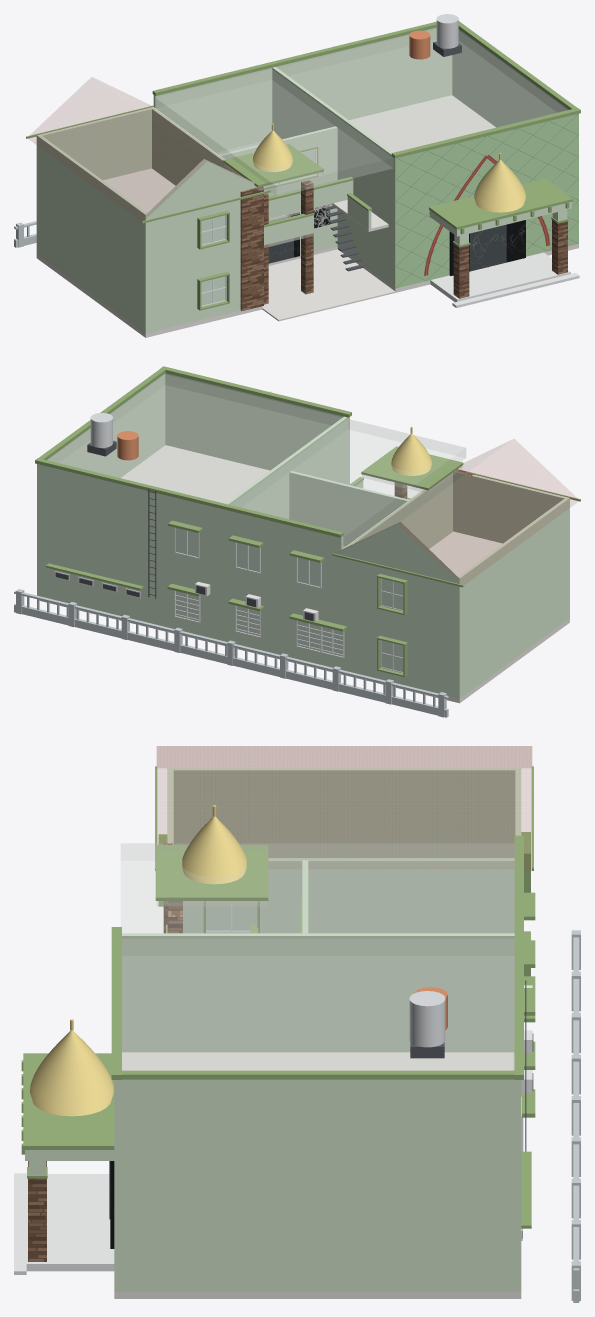
The model's file is gedung_perhotelan_2lantai_cutaway.glb.
3 views of the same model, one above another, from view 1: azimuth 30°, elevation 25°; view 2: azimuth 150°, elevation 25°; view 3: azimuth 270°, elevation 25° (orthographic). The views are drawn at different scales.
Parts seen in each view (by area): view 1: Dinding_Hijau_Pistachio, Atap_Dak_Beton_Utama, Fasad_Kubah_Diamond_Arch, Atap_Pelana_Sayap_Kiri, Lantai_Keramik_Krem, Aksen_Hijau_Olive_Dan_BoxJendela, Pilar_Batu_Alam_Coklat, Kusen_Putih_Tangga_Keramik_AC, Kubah_Emas_Utama_Dan_Menara, Marmer_Hitam_Lobi, Kaca_Jendela_Dan_Pintu, Besi_Tangga_Luar_Dan_Atap (+4 smaller); view 2: Dinding_Hijau_Pistachio, Atap_Dak_Beton_Utama, Atap_Pelana_Sayap_Kiri, Aksen_Hijau_Olive_Dan_BoxJendela, Pagar_Baluster_Belakang, Lantai_Keramik_Krem, Kaca_Jendela_Dan_Pintu, Kusen_Putih_Tangga_Keramik_AC, Besi_Tangga_Luar_Dan_Atap, Kubah_Emas_Utama_Dan_Menara, Toren_Air_Stainless_Atap, Toren_Air_Oranye_Atap; view 3: Dinding_Hijau_Pistachio, Atap_Dak_Beton_Utama, Atap_Pelana_Sayap_Kiri, Aksen_Hijau_Olive_Dan_BoxJendela, Lantai_Keramik_Krem, Kusen_Putih_Tangga_Keramik_AC, Kubah_Emas_Utama_Dan_Menara, Pagar_Baluster_Belakang, Pilar_Batu_Alam_Coklat, Toren_Air_Stainless_Atap, Kaca_Jendela_Dan_Pintu, Besi_Tangga_Luar_Dan_Atap.
Part boxes in pixels (box(x1,y1,x2,y2)): Dinding_Hijau_Pistachio: box(36, 27, 571, 333); Atap_Dak_Beton_Utama: box(155, 30, 566, 196); Fasad_Kubah_Diamond_Arch: box(395, 113, 578, 288); Atap_Pelana_Sayap_Kiri: box(28, 77, 252, 220); Lantai_Keramik_Krem: box(36, 95, 578, 337); Aksen_Hijau_Olive_Dan_BoxJendela: box(26, 21, 580, 310); Pilar_Batu_Alam_Coklat: box(240, 180, 567, 310); Kusen_Putih_Tangga_Keramik_AC: box(201, 148, 579, 307); Kubah_Emas_Utama_Dan_Menara: box(253, 123, 525, 212); Marmer_Hitam_Lobi: box(268, 212, 525, 275); Kaca_Jendela_Dan_Pintu: box(201, 150, 506, 305); Besi_Tangga_Luar_Dan_Atap: box(323, 41, 488, 271); Dinding_Hijau_Pistachio: box(37, 373, 569, 698); Atap_Dak_Beton_Utama: box(48, 374, 465, 547); Atap_Pelana_Sayap_Kiri: box(337, 439, 578, 584); Aksen_Hijau_Olive_Dan_BoxJendela: box(35, 366, 580, 677); Pagar_Baluster_Belakang: box(14, 589, 448, 717); Lantai_Keramik_Krem: box(39, 445, 569, 703); Kaca_Jendela_Dan_Pintu: box(176, 528, 402, 671); Kusen_Putih_Tangga_Keramik_AC: box(54, 527, 403, 673); Besi_Tangga_Luar_Dan_Atap: box(55, 441, 313, 621); Kubah_Emas_Utama_Dan_Menara: box(269, 391, 431, 475); Toren_Air_Stainless_Atap: box(90, 413, 112, 447); Toren_Air_Oranye_Atap: box(117, 431, 138, 460); Dinding_Hijau_Pistachio: box(25, 768, 521, 1291); Atap_Dak_Beton_Utama: box(121, 843, 514, 1070); Atap_Pelana_Sayap_Kiri: box(157, 746, 531, 868); Aksen_Hijau_Olive_Dan_BoxJendela: box(21, 766, 535, 1228); Lantai_Keramik_Krem: box(114, 1052, 521, 1298); Kusen_Putih_Tangga_Keramik_AC: box(14, 901, 532, 1274); Kubah_Emas_Utama_Dan_Menara: box(30, 805, 246, 1116); Pagar_Baluster_Belakang: box(571, 930, 580, 1302); Pilar_Batu_Alam_Coklat: box(28, 843, 182, 1261); Toren_Air_Stainless_Atap: box(409, 991, 445, 1047); Kaca_Jendela_Dan_Pintu: box(206, 907, 256, 930); Besi_Tangga_Luar_Dan_Atap: box(109, 980, 533, 1238).
Size of the model in its own units: 25.72 by 9.67 by 18.1.
Materials: 17 (5 with a texture image).
